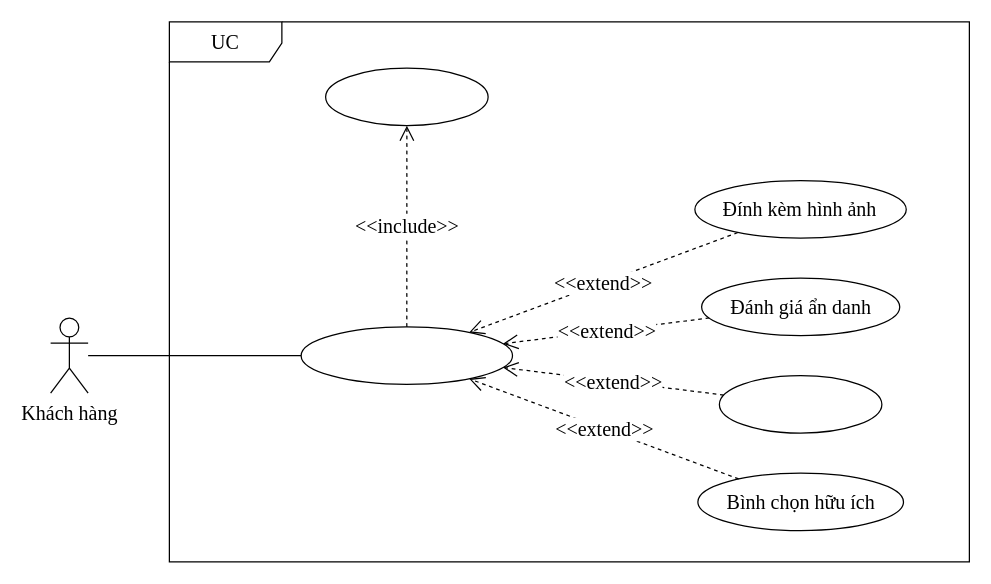
This 991x584 diagram has some shape labels left out. Each missing label, with the box of its shape:
Sửa đánh giá: (718, 374, 882, 433)
Đánh giá sản phẩm: (300, 326, 512, 384)
Đăng nhập: (324, 67, 488, 126)
